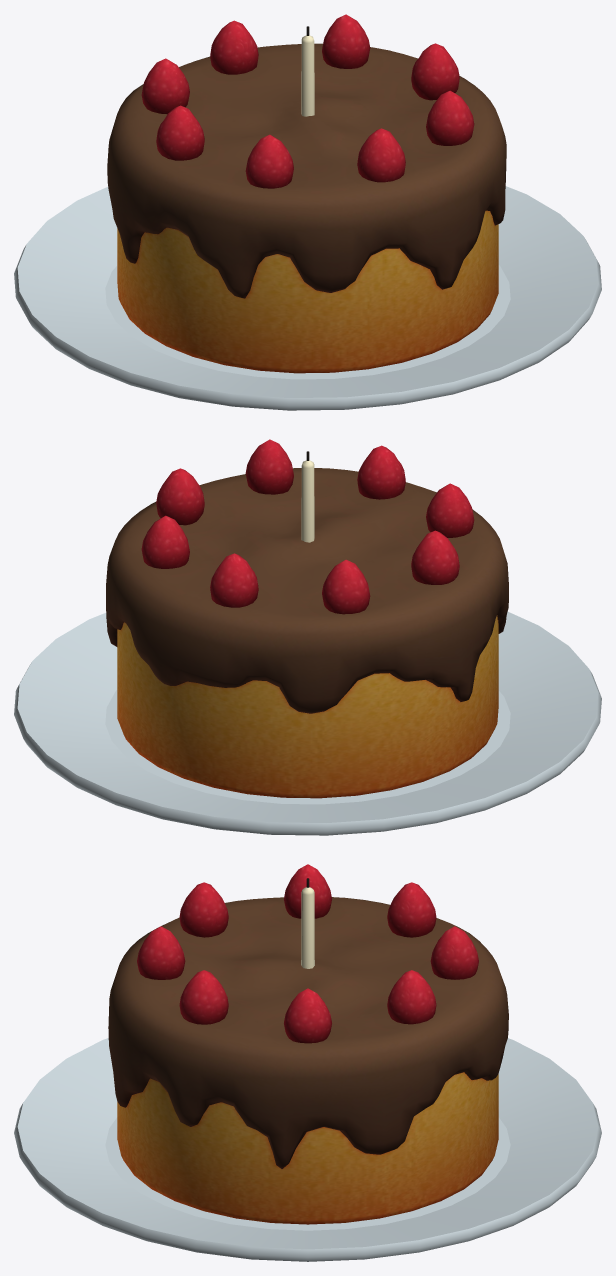
Rendered from fruit_cake.glb.
3 views of the same model, one above another, from view 1: azimuth 30°, elevation 25°; view 2: azimuth 150°, elevation 25°; view 3: azimuth 270°, elevation 25° (orthographic).
Parts seen in each view (by area): view 1: Cake; view 2: Cake; view 3: Cake.
Part boxes in pixels (box(x1,y1,x2,y2)): Cake: box(14, 14, 601, 410); Cake: box(14, 439, 601, 835); Cake: box(14, 864, 601, 1261).
Size of the model in its own units: 3.15 by 1.68 by 3.15.
Materials: 1 (1 with a texture image).
